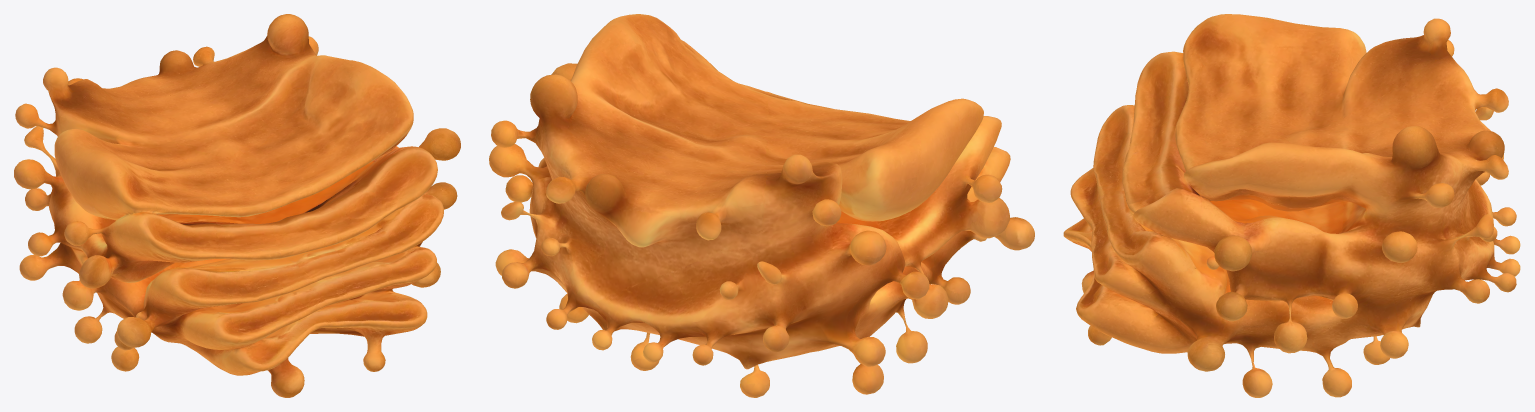
Rendered from golgi.glb.
3 renders of one model, left to right at view 1: azimuth 30°, elevation 25°; view 2: azimuth 150°, elevation 25°; view 3: azimuth 270°, elevation 25°, orthographic. The views are drawn at different scales.
Visible parts, largest first — view 1: mesh_node; view 2: mesh_node; view 3: mesh_node.
Boxes of the visible parts, x1,y1,x2,y2 form: mesh_node: [14, 14, 460, 397]; mesh_node: [489, 14, 1034, 397]; mesh_node: [1063, 14, 1520, 397].
Size of the model in its own units: 1.9 by 1.17 by 1.8.
Materials: 1 (1 with a texture image).
